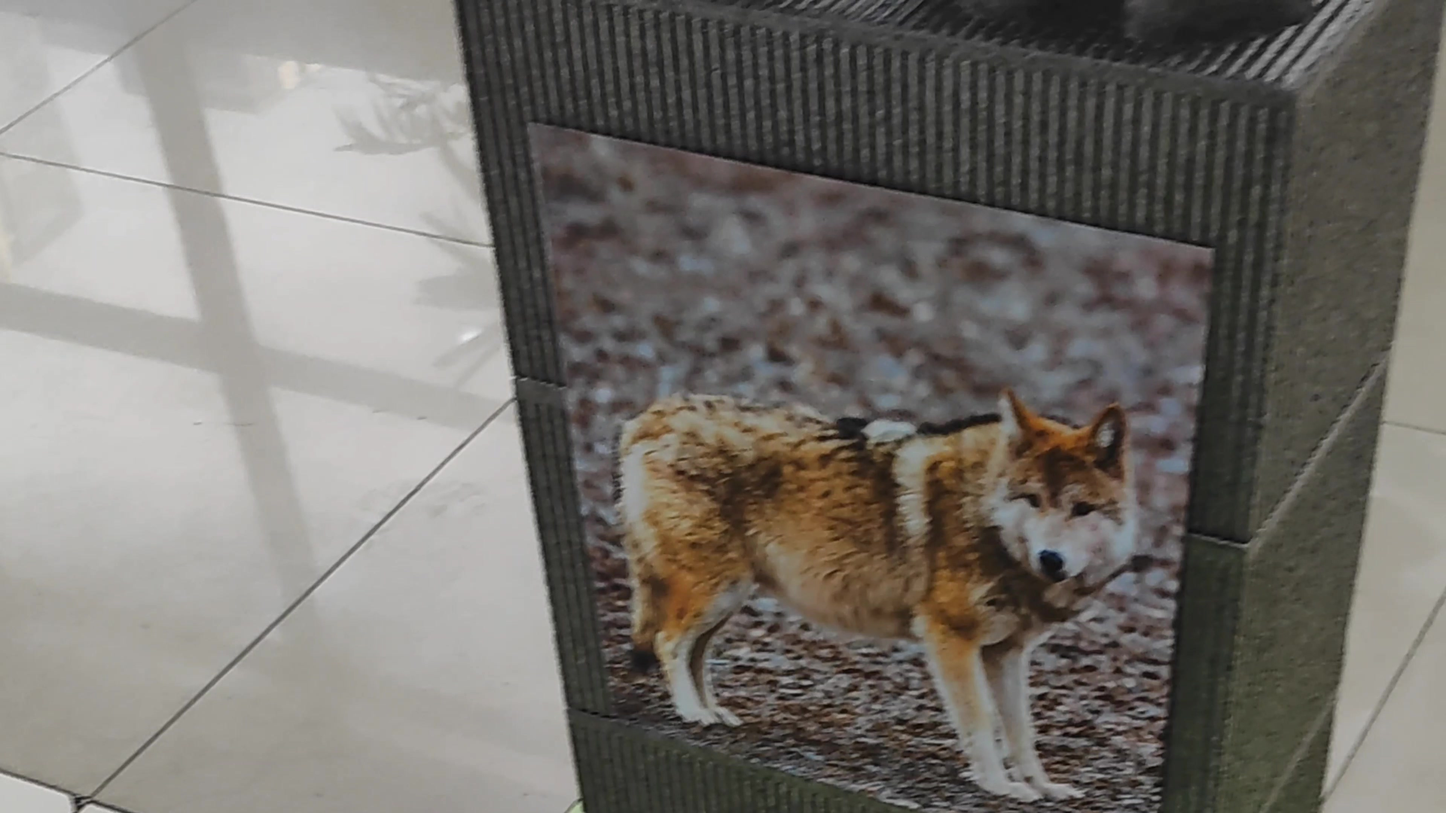wolf: (586, 299, 1146, 798)
